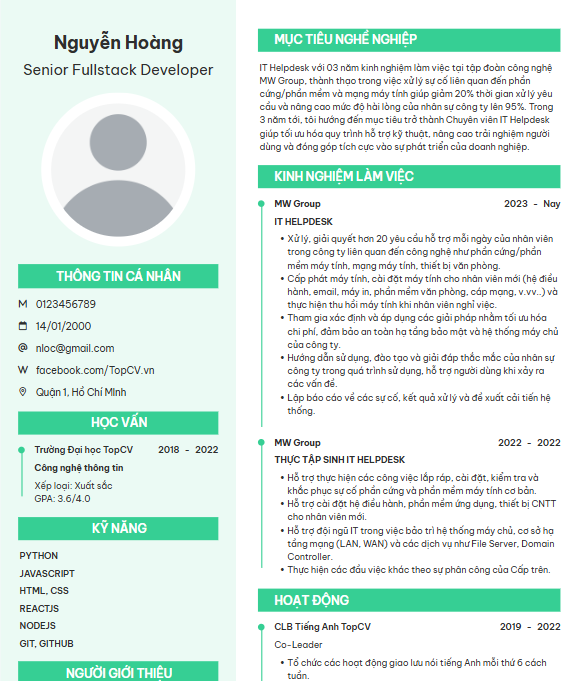address: (15, 383, 132, 401)
gpa: (33, 493, 93, 505)
level: (17, 59, 70, 77)
position: (71, 60, 214, 83)
skill: (13, 511, 228, 651)
